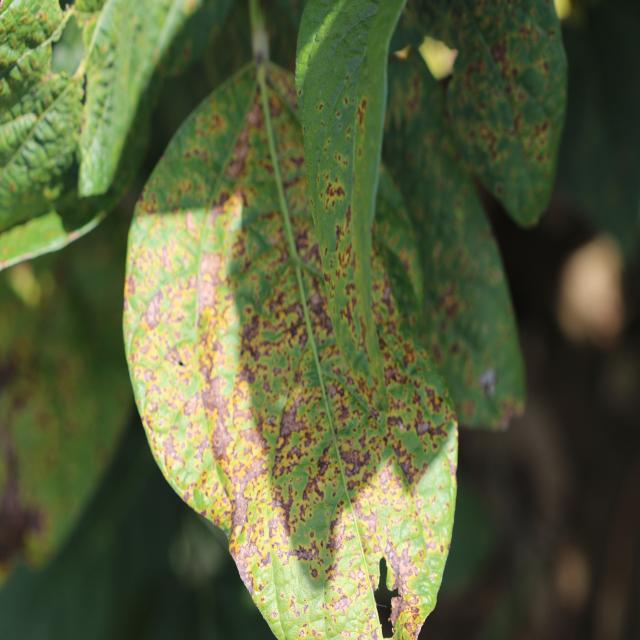Bacterial_Blight: (279, 411, 385, 542), (317, 224, 393, 396), (465, 29, 549, 174), (220, 97, 294, 213), (197, 393, 255, 512), (368, 515, 428, 630), (332, 418, 387, 483), (230, 507, 270, 594), (405, 408, 453, 462), (278, 398, 315, 446), (227, 120, 257, 173), (196, 250, 224, 304), (300, 468, 329, 511), (333, 210, 354, 256), (277, 485, 297, 528), (143, 289, 165, 327), (242, 314, 265, 350), (313, 306, 334, 336), (163, 431, 180, 463), (324, 179, 345, 204), (491, 39, 509, 67), (295, 543, 320, 563), (164, 344, 185, 366), (245, 102, 262, 128), (330, 592, 350, 614), (184, 394, 199, 417), (309, 291, 325, 312), (356, 98, 367, 127)
Soybean: (124, 65, 458, 640)
